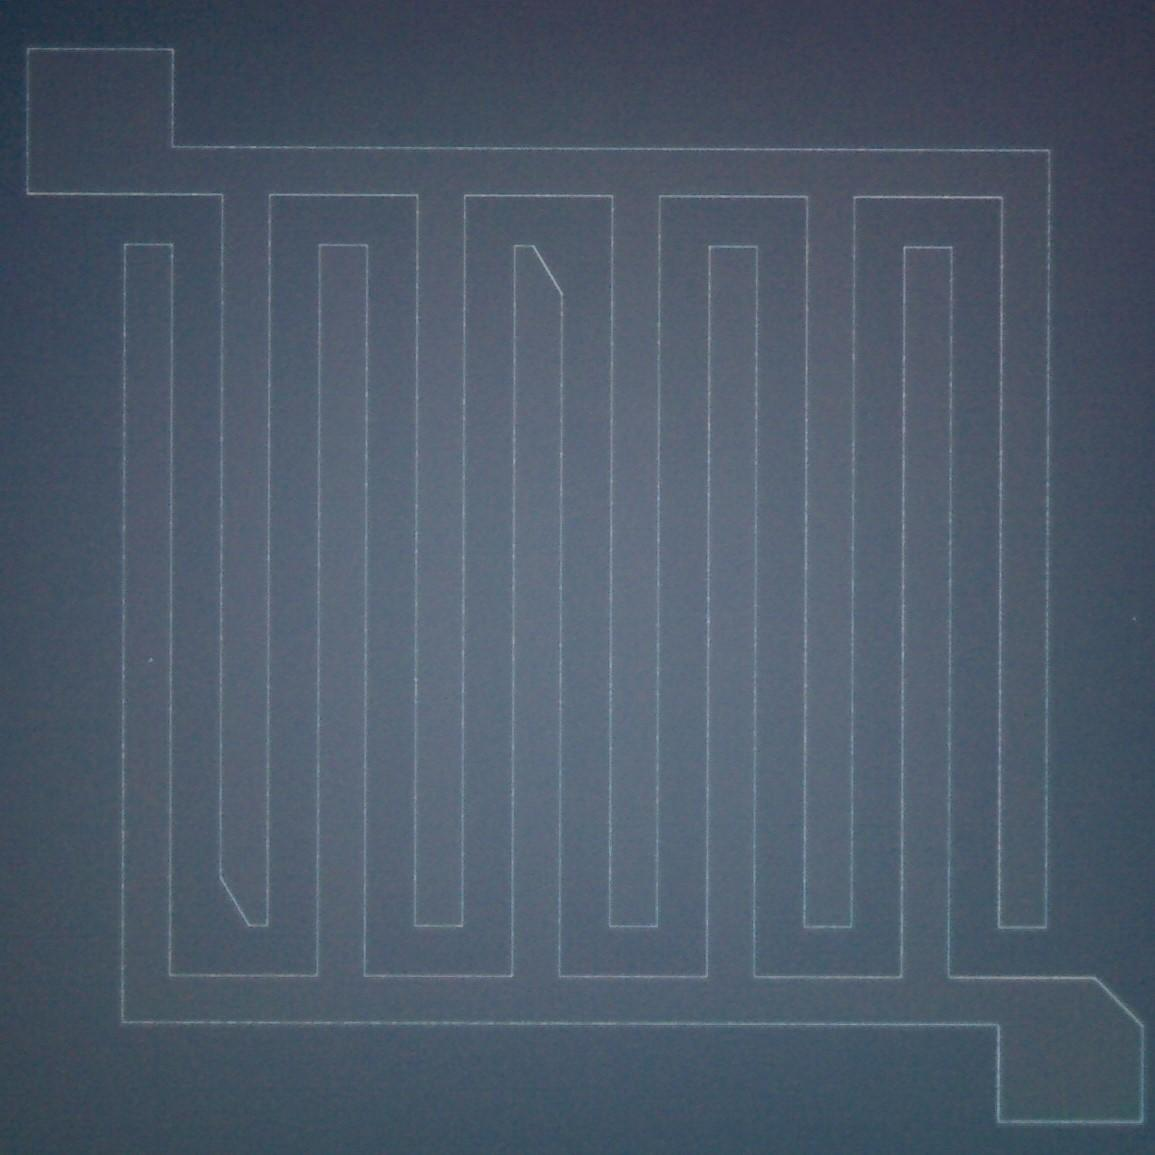cut: (1056, 964, 1149, 1045), (491, 232, 575, 313), (207, 860, 282, 943)
s_point: (143, 652, 159, 670)
